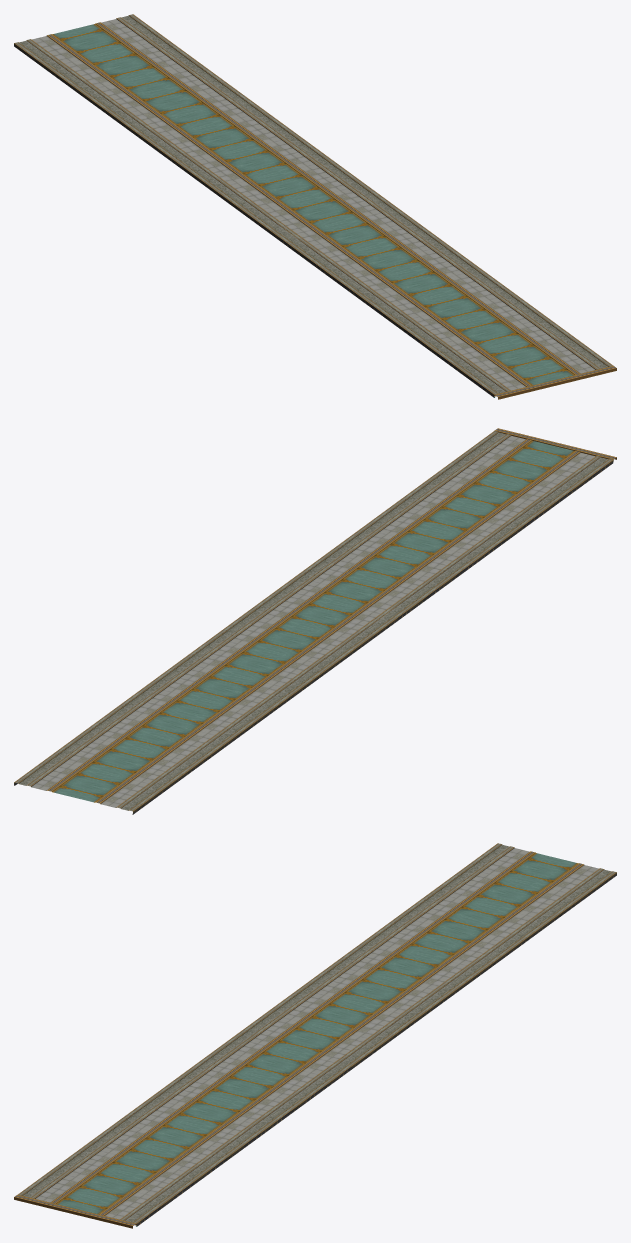
The model's file is Yland1_dm_06 Yland1.FBX.
3 renders of one model, top to bottom at view 1: azimuth 30°, elevation 25°; view 2: azimuth 150°, elevation 25°; view 3: azimuth 330°, elevation 25°, orthographic.
Visible parts, largest first — view 1: Yland1_dm_06 Yland1; view 2: Yland1_dm_06 Yland1; view 3: Yland1_dm_06 Yland1.
Boxes of the visible parts, x1,y1,x2,y2 form: Yland1_dm_06 Yland1: (14, 14, 616, 399); Yland1_dm_06 Yland1: (14, 428, 616, 814); Yland1_dm_06 Yland1: (14, 843, 616, 1228).
Bounding box in the file's own units: 1241 × 33.59 × 8723.
